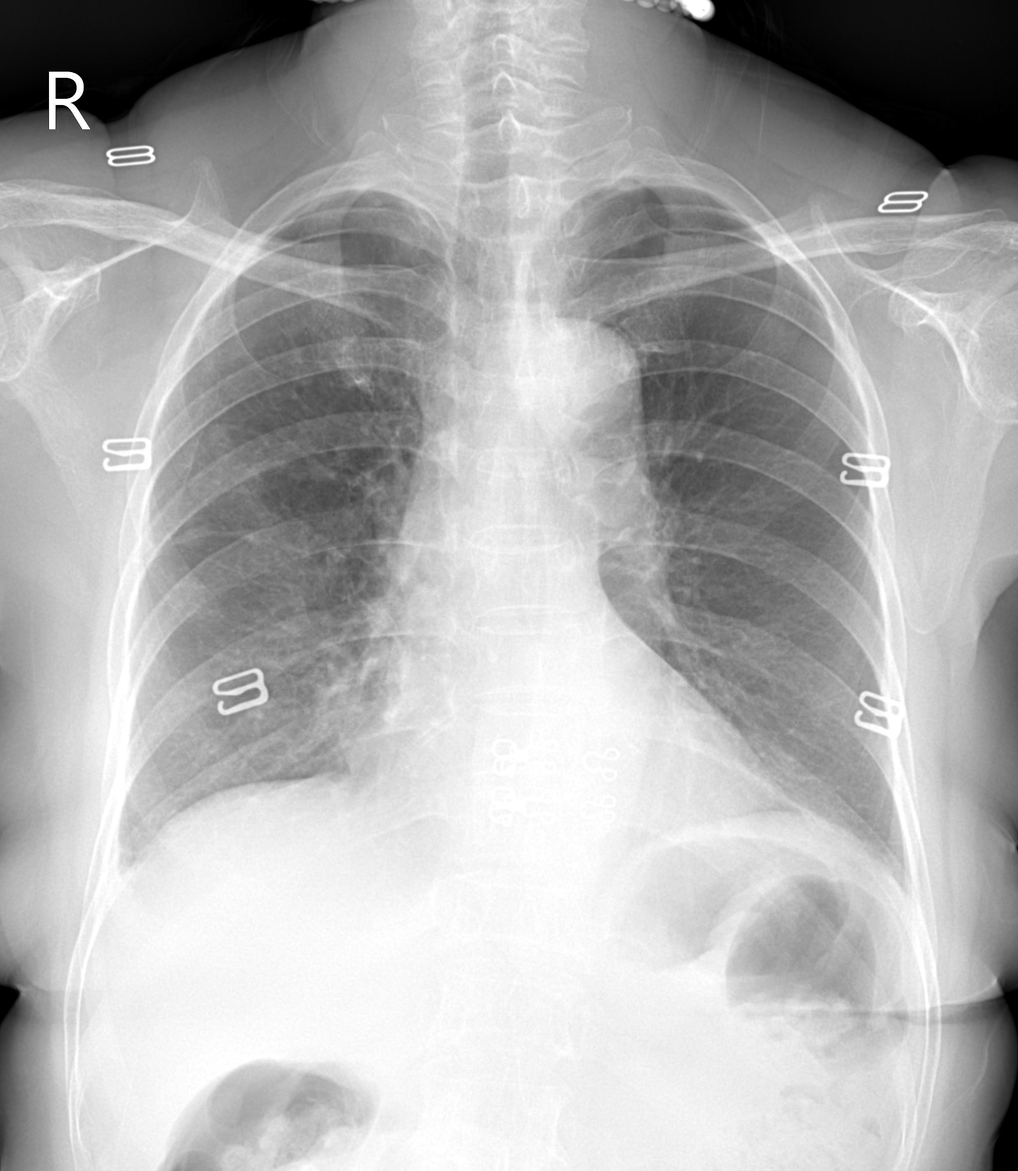Aortic enlargement: (501, 315, 645, 443)
Cardiomegaly: (342, 687, 792, 828)
Pleural thickening: (266, 185, 419, 225), (93, 823, 134, 921)
